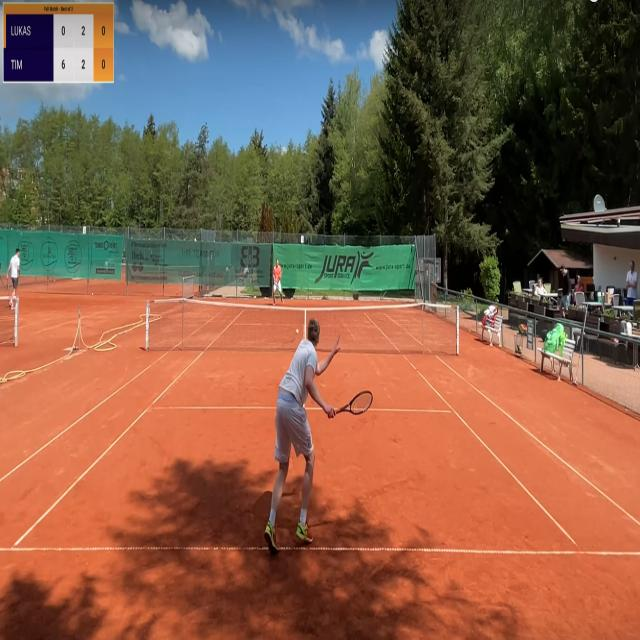ball: (296, 328, 299, 335)
